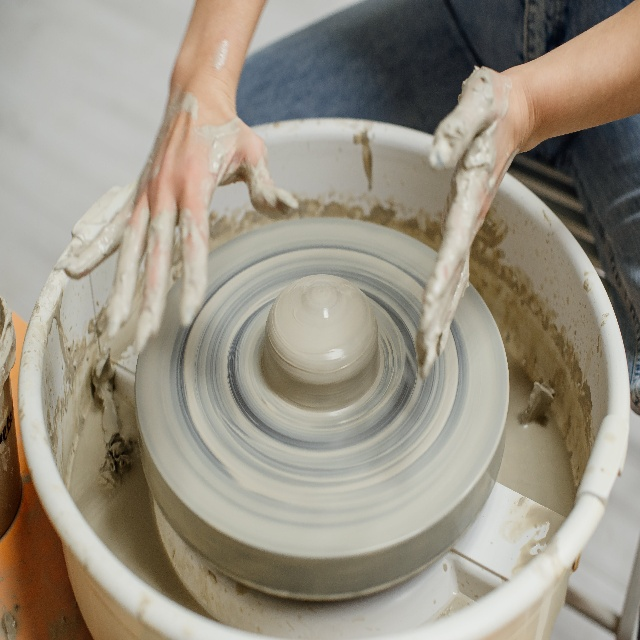Sin_guantes: (54, 91, 299, 354), (416, 65, 522, 377)
